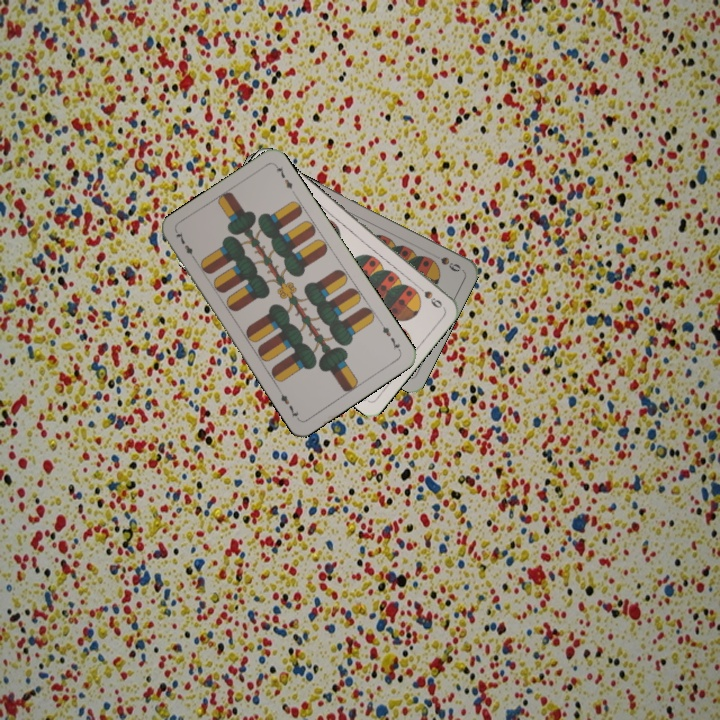E7: (376, 318, 404, 354), (172, 228, 199, 264)
S9: (411, 280, 445, 311), (426, 249, 463, 274)
